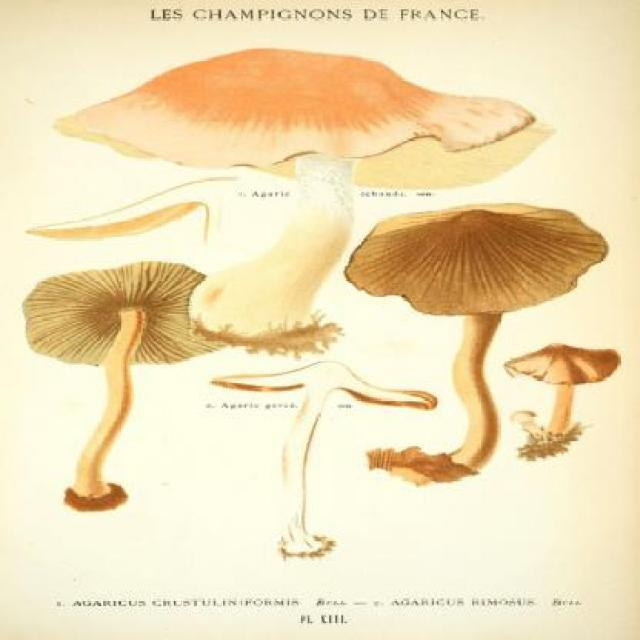Mushroom: (51, 46, 554, 360), (344, 202, 610, 486), (18, 247, 246, 524), (213, 360, 438, 560), (21, 178, 244, 248), (512, 342, 620, 462)
